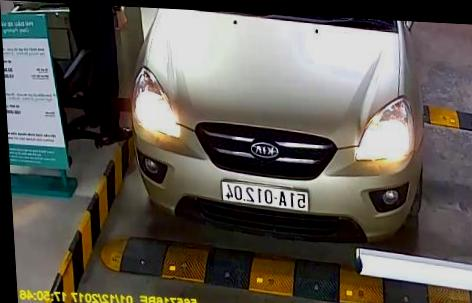License_Plate: (220, 179, 315, 213)
